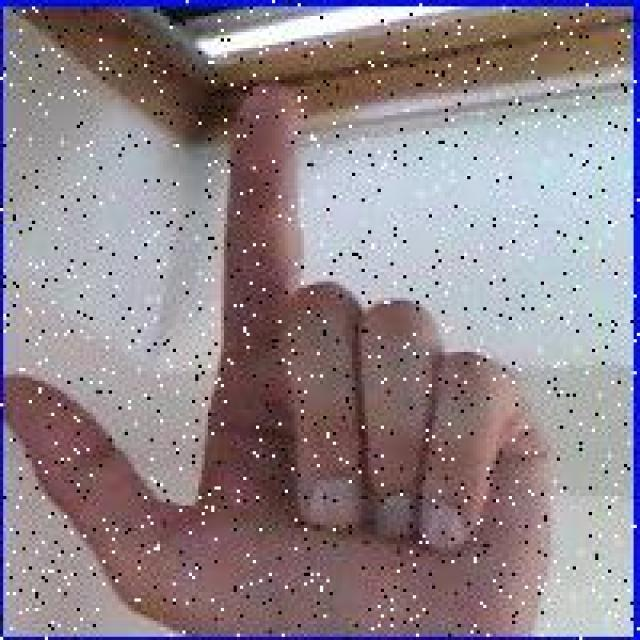L: (8, 80, 571, 624)
